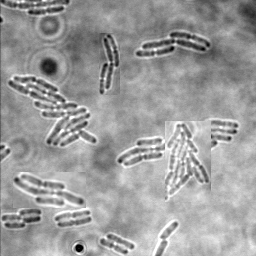Dividing: (99, 238, 128, 255), (54, 209, 90, 222), (56, 217, 92, 228), (27, 7, 64, 17)
Microcolony: (7, 76, 98, 147), (165, 121, 211, 202), (13, 172, 86, 208), (135, 32, 211, 57), (195, 120, 238, 155), (117, 137, 164, 168), (99, 33, 120, 95), (1, 208, 42, 229)
Rod: (106, 233, 135, 251), (157, 222, 178, 240)
